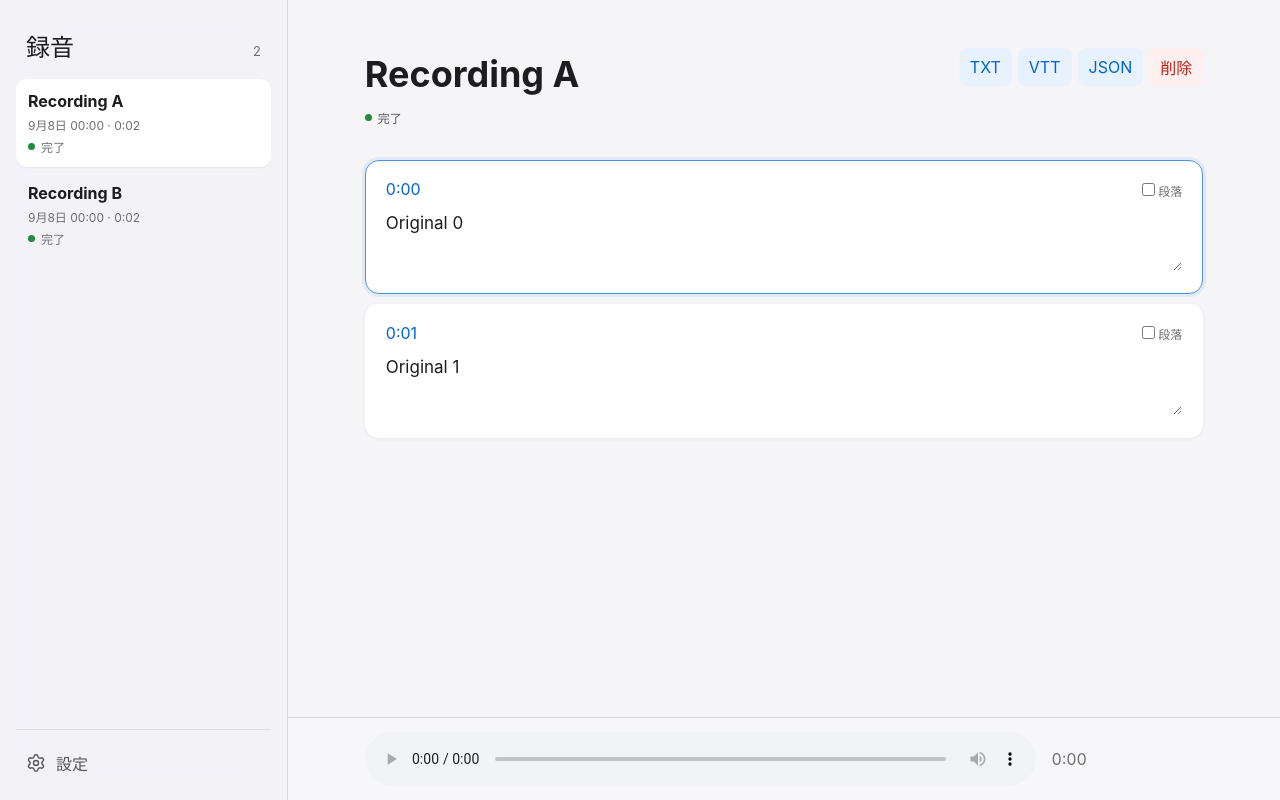
keeps text typed while a save is in flight
The width and height of the screenshot is (1280, 800).
Step 1. Replace the text in the text box named "0:00の発話" with "Submitted" → (784, 239), box [386,208,1182,271]
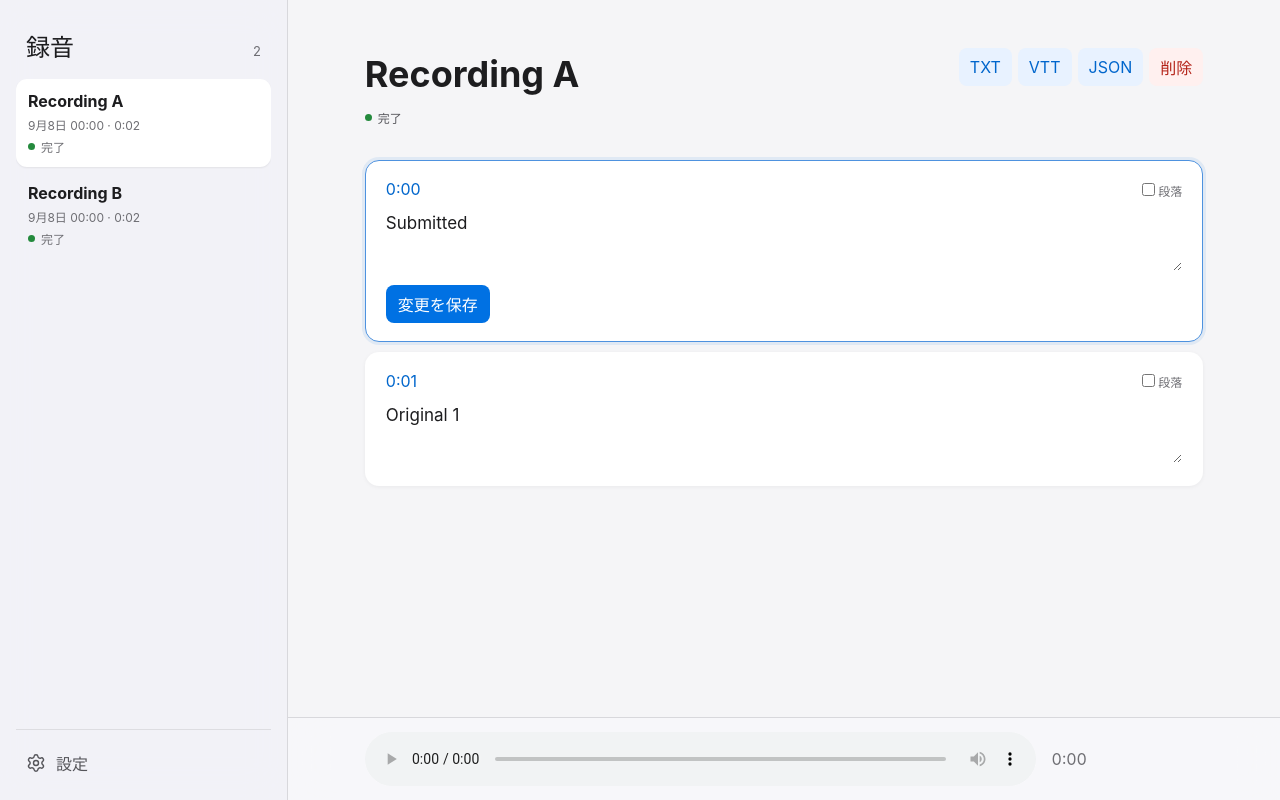
Step 2. Click the button "変更を保存" → (438, 304), box [386,285,490,323]
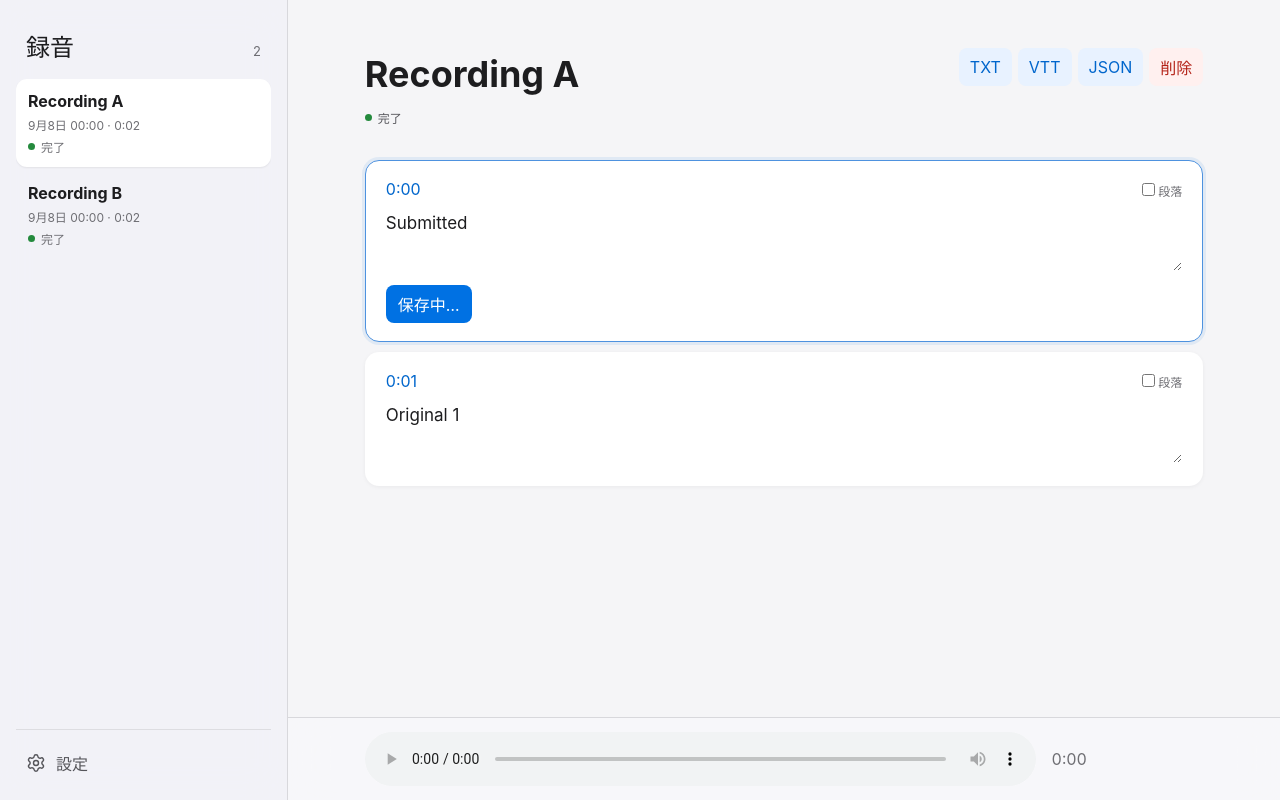
Step 3. Replace the text in the text box named "0:00の発話" with "Still typing" → (784, 239), box [386,208,1182,271]
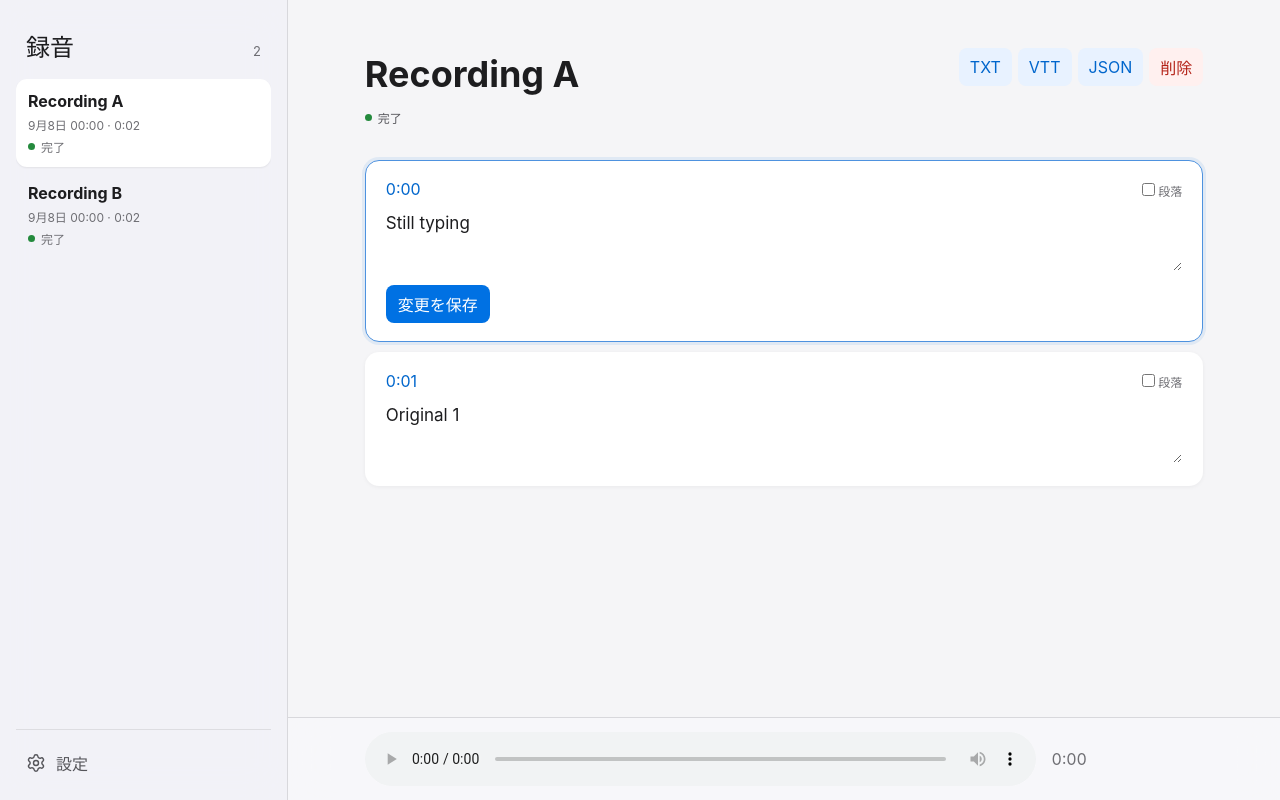
Expected: the button "変更を保存" is enabled, [386,285,490,323]
